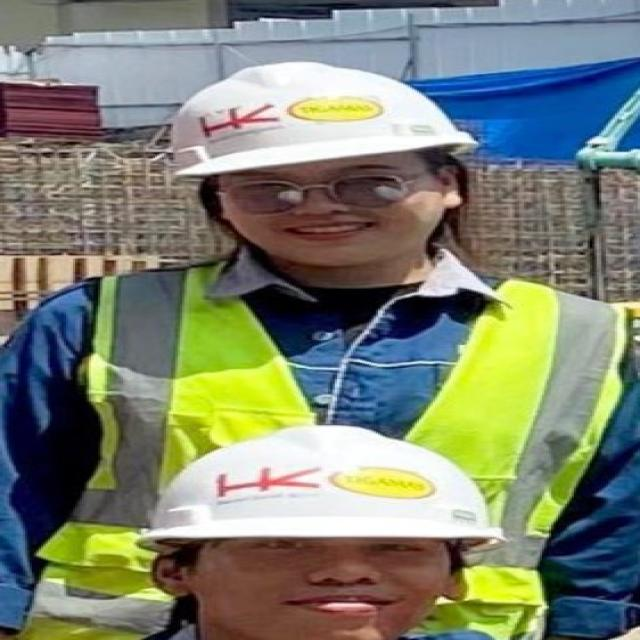safetyhelmet: (153, 421, 504, 615), (164, 62, 478, 240)
